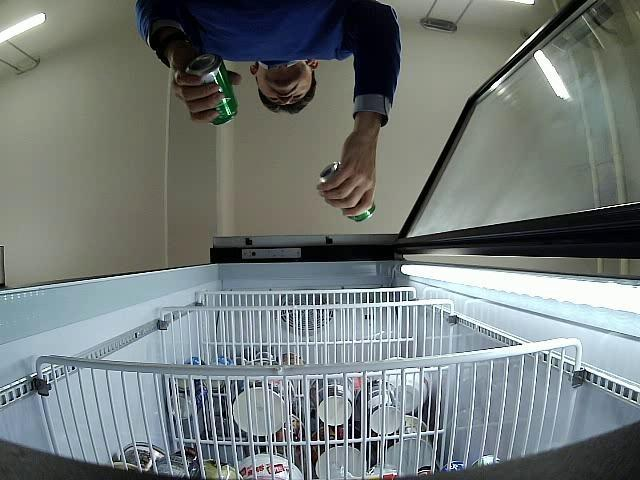12_chilsungCider: (186, 55, 238, 126), (319, 162, 376, 222)
